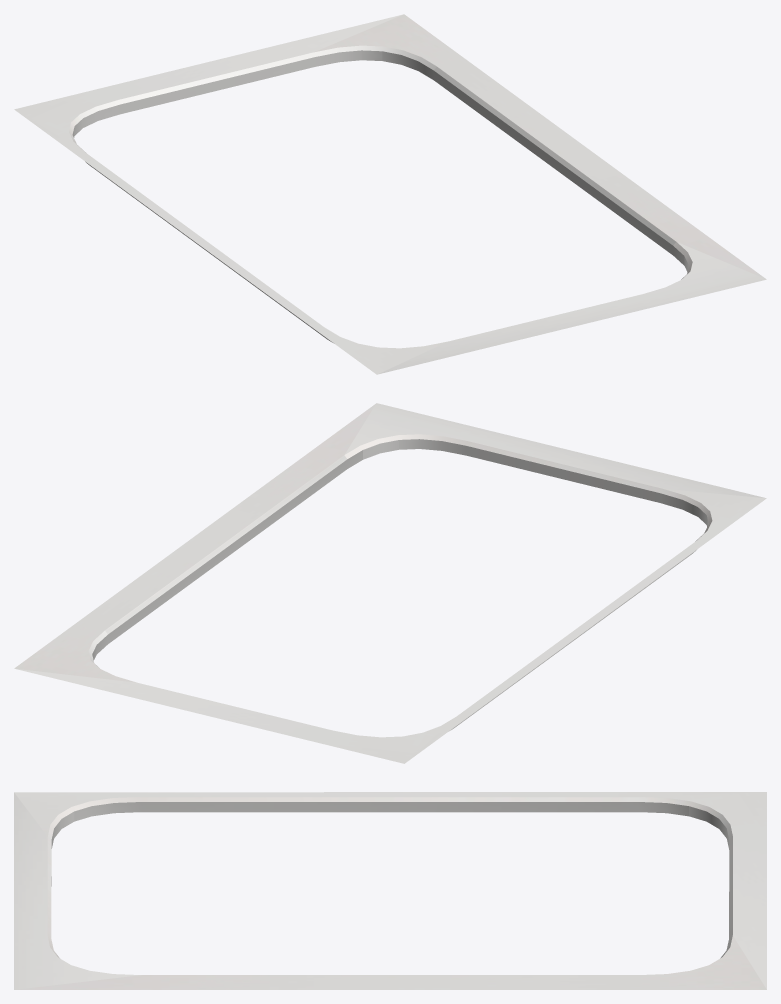
The model's file is Countertops_Sink.glb.
3 views of the same model, one above another, from view 1: azimuth 30°, elevation 25°; view 2: azimuth 150°, elevation 25°; view 3: azimuth 270°, elevation 25° (orthographic). The views are drawn at different scales.
Parts seen in each view (by area): view 1: shink; view 2: shink; view 3: shink.
Part boxes in pixels (box(x1,y1,x2,y2)): shink: box(14, 14, 766, 374); shink: box(14, 403, 766, 763); shink: box(14, 792, 766, 989).
Bounding box in the file's own units: 0.6217 × 0.02 × 1.
1 material, 1 textured.
